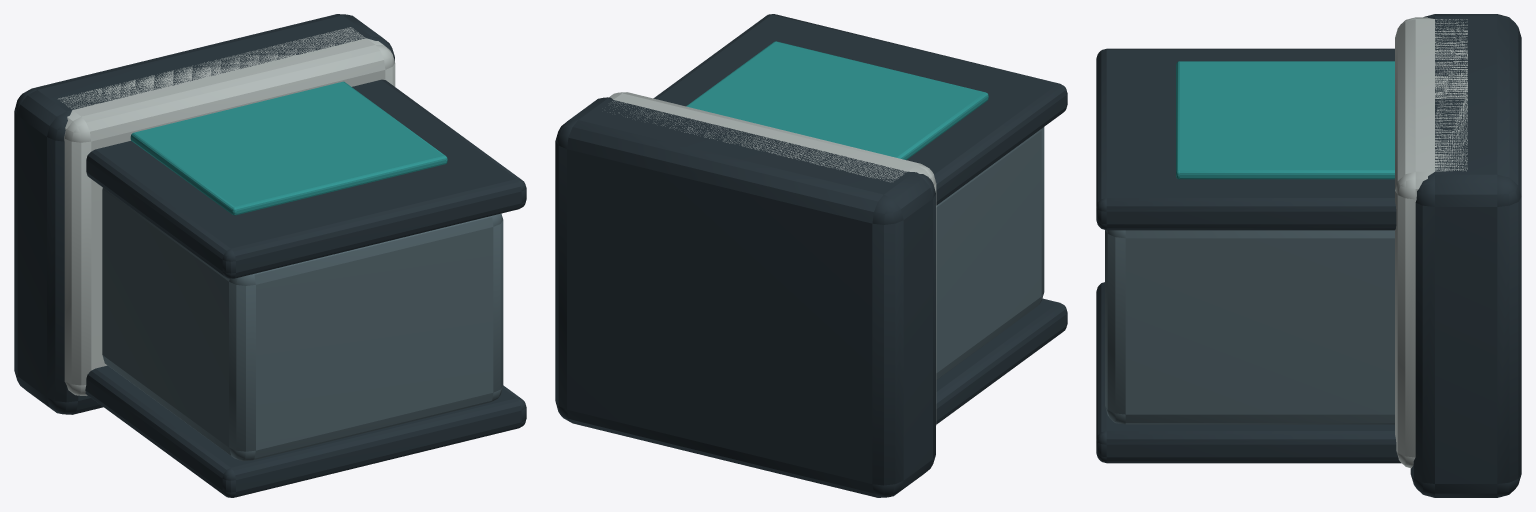
The model's file is SM_Mech_CouplerHousing.fbx.
The picture shows the model from 3 angles, left to right: view 1: azimuth 30°, elevation 25°; view 2: azimuth 150°, elevation 25°; view 3: azimuth 270°, elevation 25°; orthographic projection. The views are drawn at different scales.
Parts seen in each view (by area): view 1: SM_Mech_CouplerHousing; view 2: SM_Mech_CouplerHousing; view 3: SM_Mech_CouplerHousing.
Part boxes in pixels (box(x1,y1,x2,y2)): SM_Mech_CouplerHousing: box(14, 14, 526, 497); SM_Mech_CouplerHousing: box(555, 14, 1067, 497); SM_Mech_CouplerHousing: box(1096, 14, 1521, 497).
Size of the model in its own units: 122 by 123 by 102.
